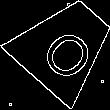O_NE: (32, 13, 98, 79)
